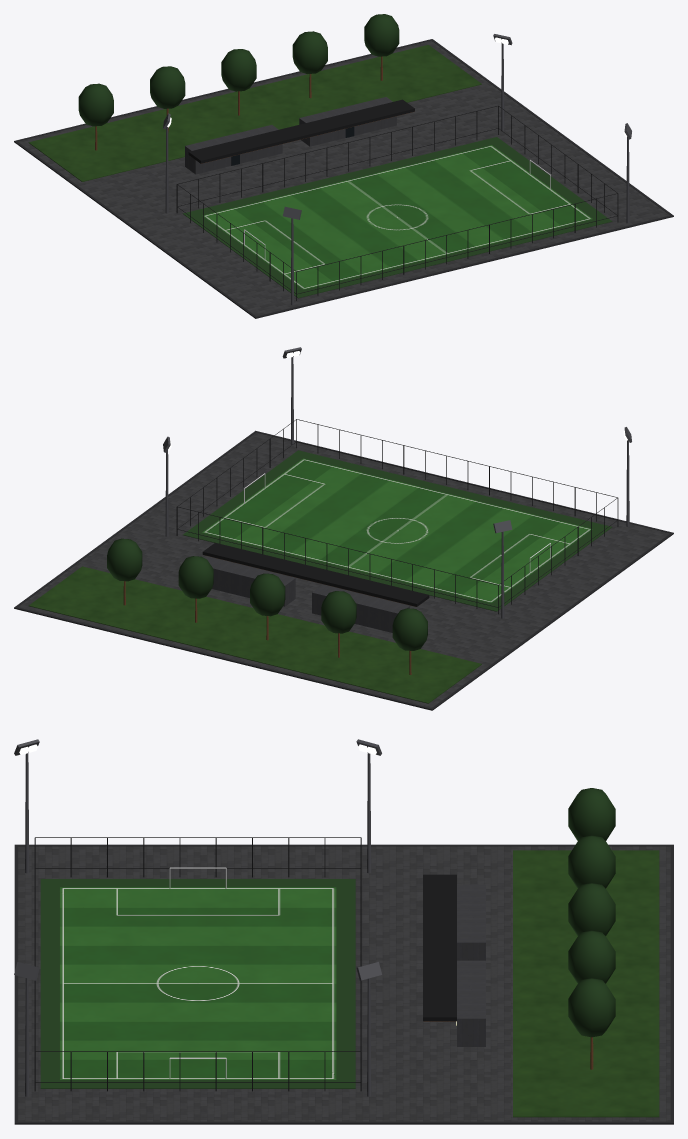
The model's file is training_L1.glb.
The picture shows the model from 3 angles, top to bottom: view 1: azimuth 30°, elevation 25°; view 2: azimuth 150°, elevation 25°; view 3: azimuth 270°, elevation 25°; orthographic projection. The views are drawn at different scales.
Parts seen in each view (by area): view 1: paving_training_L1, turf_train_s_training_L1, lawn_training_L1, black_metal_training_L1, foliage_training_L1, concrete_dark_training_L1, cladding_training_L1, steel_training_L1; view 2: turf_train_s_training_L1, paving_training_L1, lawn_training_L1, black_metal_training_L1, foliage_training_L1, concrete_dark_training_L1, cladding_training_L1, steel_training_L1; view 3: turf_train_s_training_L1, paving_training_L1, lawn_training_L1, foliage_training_L1, black_metal_training_L1, concrete_dark_training_L1, cladding_training_L1, steel_training_L1.
Boxes of the visible parts, left/top/right/bottom form: paving_training_L1: left=18, top=40, right=669, bottom=316; turf_train_s_training_L1: left=182, top=137, right=612, bottom=298; lawn_training_L1: left=28, top=45, right=481, bottom=181; black_metal_training_L1: left=176, top=99, right=618, bottom=300; foliage_training_L1: left=78, top=14, right=399, bottom=126; concrete_dark_training_L1: left=14, top=39, right=673, bottom=318; cladding_training_L1: left=185, top=97, right=396, bottom=174; steel_training_L1: left=163, top=34, right=631, bottom=305; turf_train_s_training_L1: left=183, top=450, right=612, bottom=611; paving_training_L1: left=18, top=432, right=669, bottom=707; lawn_training_L1: left=28, top=566, right=481, bottom=703; black_metal_training_L1: left=176, top=419, right=618, bottom=614; foliage_training_L1: left=107, top=538, right=427, bottom=650; concrete_dark_training_L1: left=14, top=430, right=673, bottom=710; cladding_training_L1: left=206, top=557, right=409, bottom=632; steel_training_L1: left=163, top=347, right=631, bottom=618; turf_train_s_training_L1: left=40, top=879, right=355, bottom=1088; paving_training_L1: left=18, top=846, right=670, bottom=1121; lawn_training_L1: left=513, top=850, right=659, bottom=1117; foliage_training_L1: left=568, top=788, right=615, bottom=1037; black_metal_training_L1: left=34, top=837, right=456, bottom=1091; concrete_dark_training_L1: left=14, top=844, right=673, bottom=1124; cladding_training_L1: left=457, top=884, right=485, bottom=1046; steel_training_L1: left=14, top=739, right=382, bottom=1096.
Bounding box in the file's own units: 58.6 × 12.96 × 58.67.
13 materials, 5 textured.
